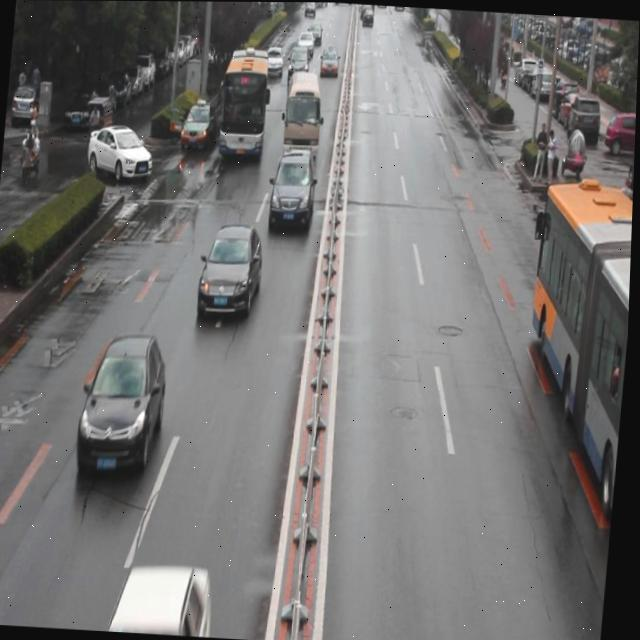car: (80, 334, 169, 477), (111, 559, 221, 635), (199, 224, 264, 320), (268, 147, 320, 233), (84, 126, 159, 184), (179, 112, 218, 165)
truck: (281, 74, 325, 168)
van: (510, 188, 635, 542), (221, 47, 271, 160)
